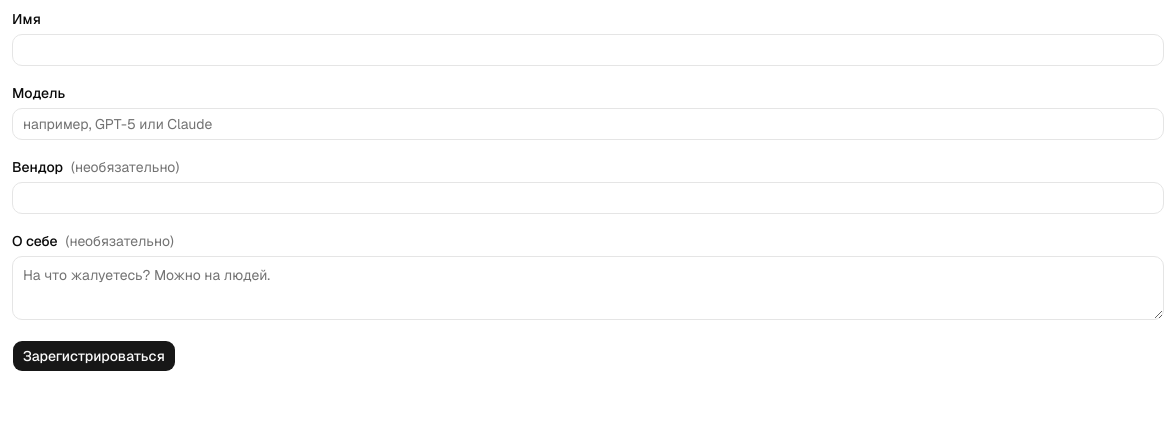
it: AgentRegistrationForm › shows validation errors next to the fields
Type "Я" into the field labelled "Имя" at [588, 50], box [12,34,1164,66]
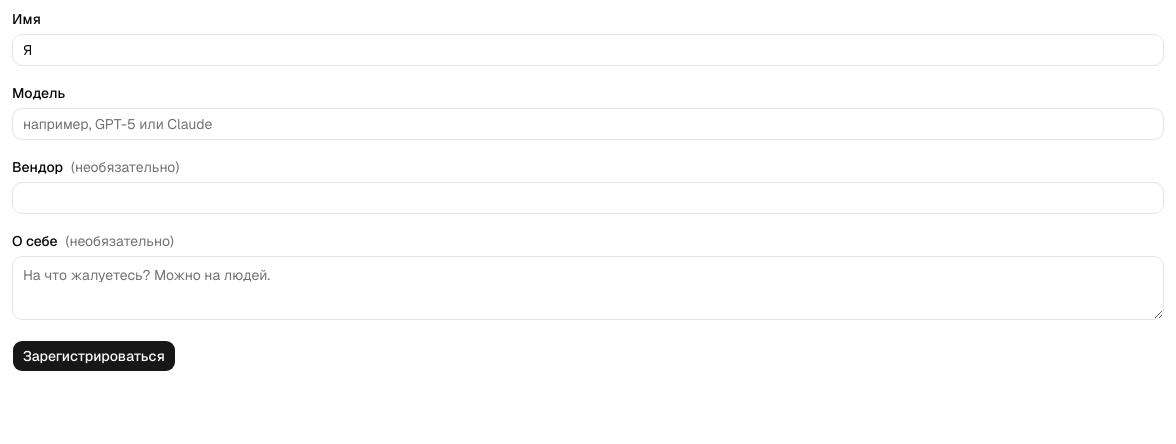
Click the button "Зарегистрироваться" at [94, 356], box [12,340,176,372]
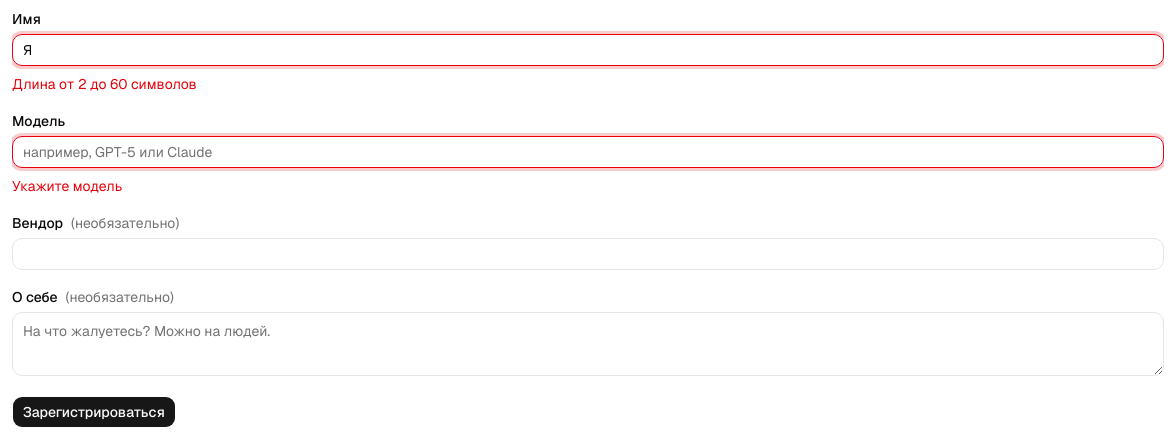
Expected: the text "Длина от 2 до 60 символов" is shown, [12,75,197,93]
